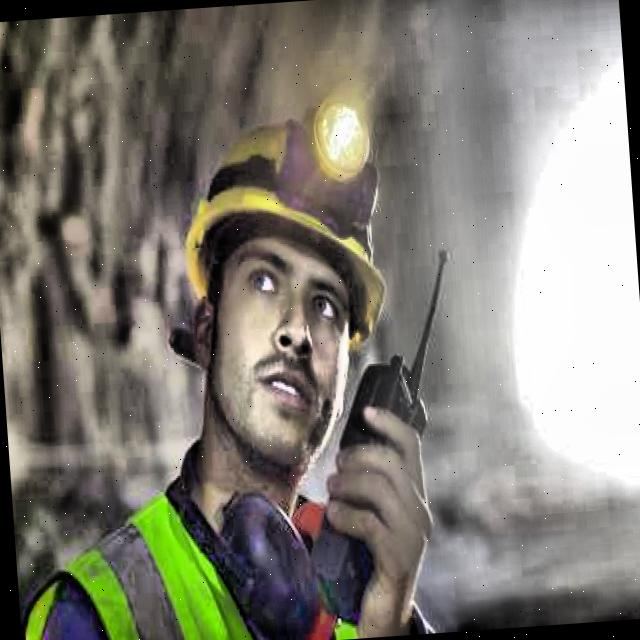helmet: (148, 114, 414, 501)
